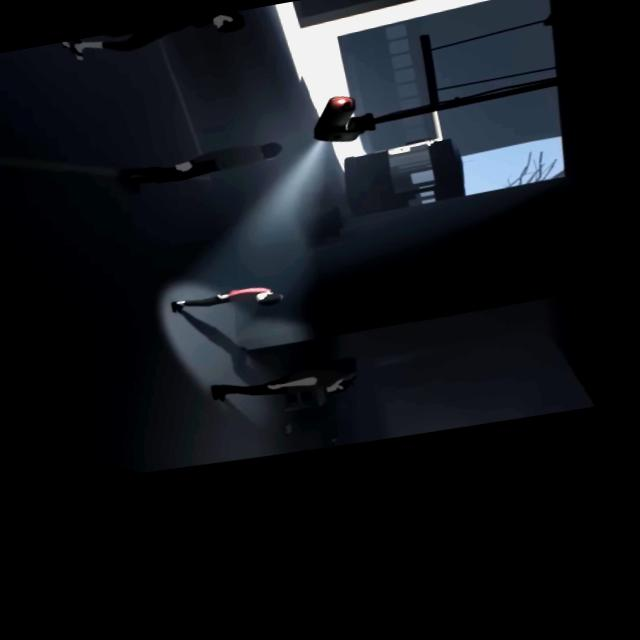boy: (169, 280, 285, 322)
